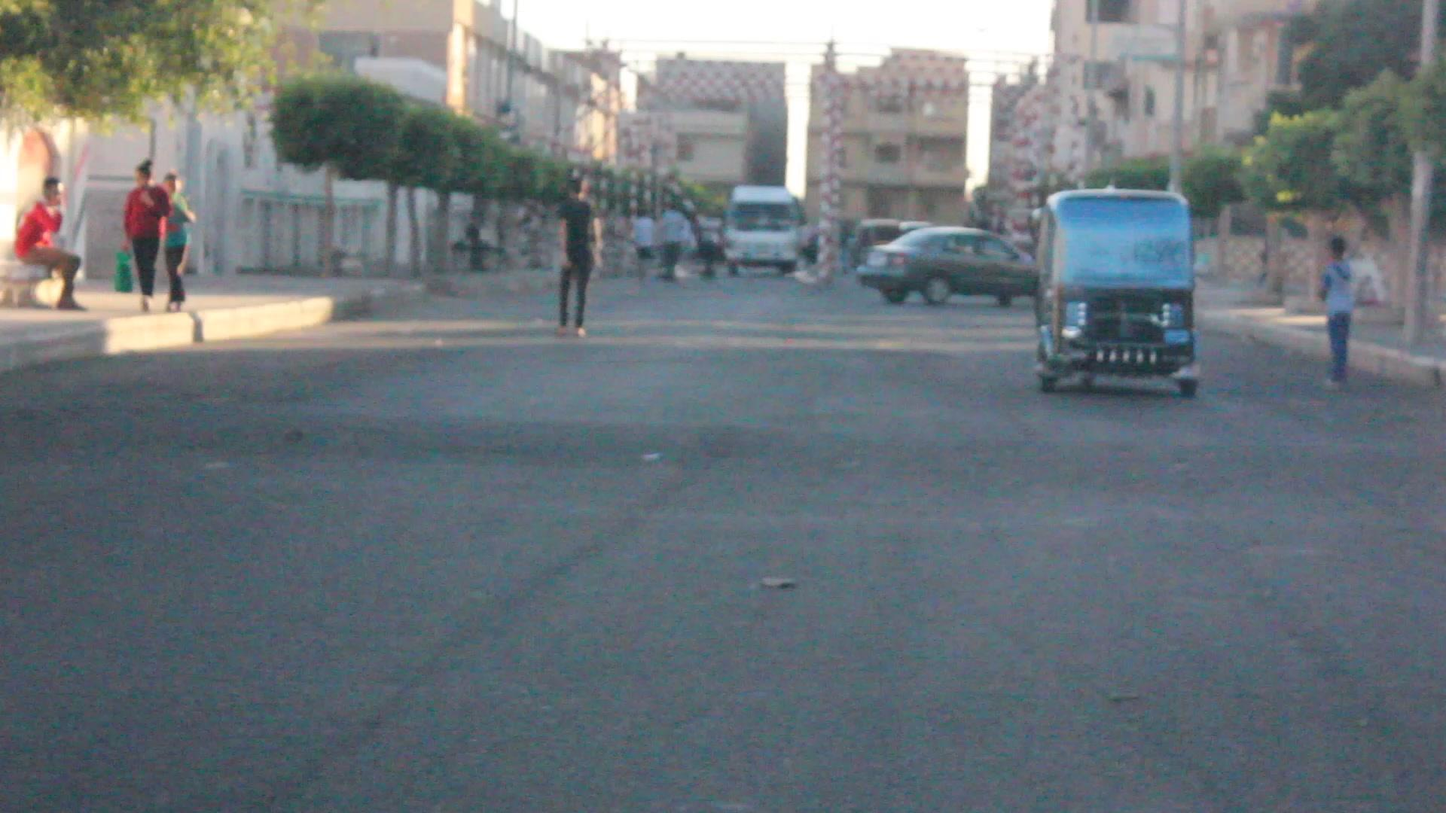Bump: (0, 395, 1446, 504)
